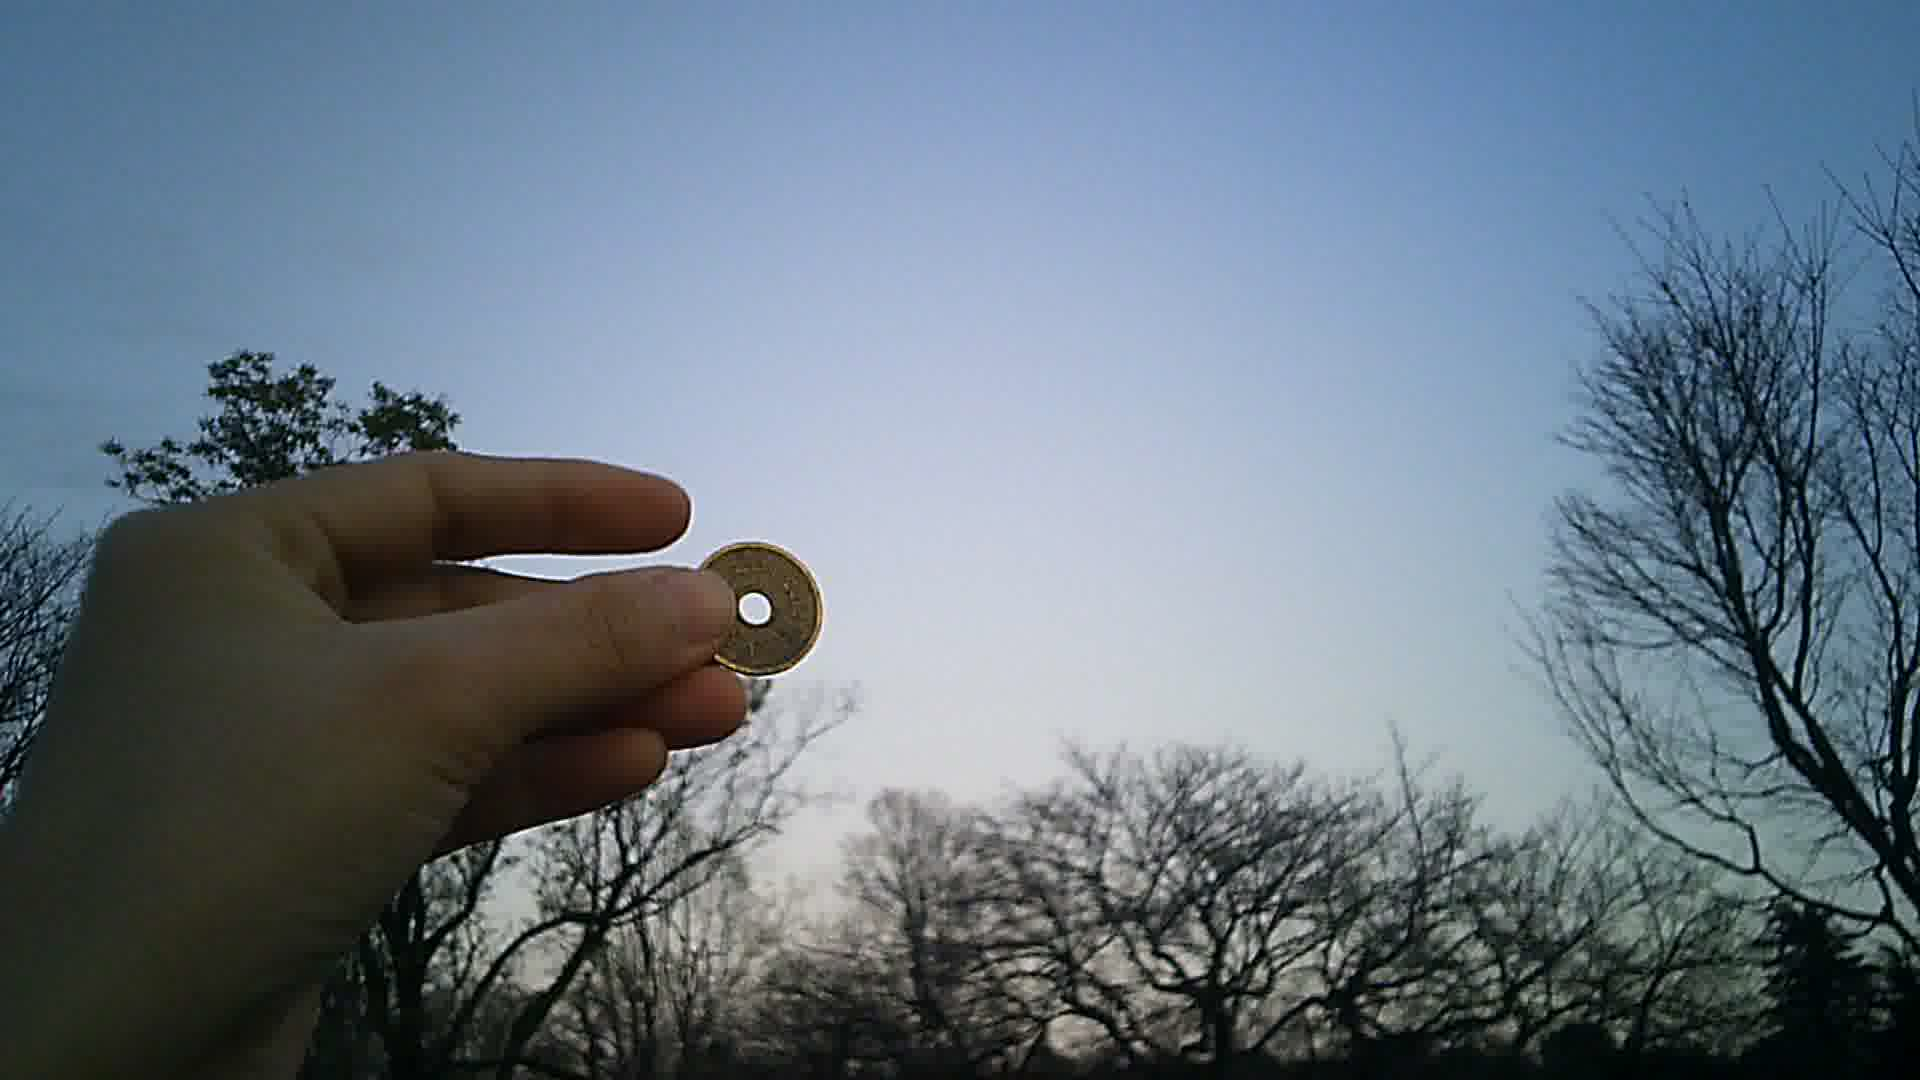5 Yen: (692, 530, 828, 678)
